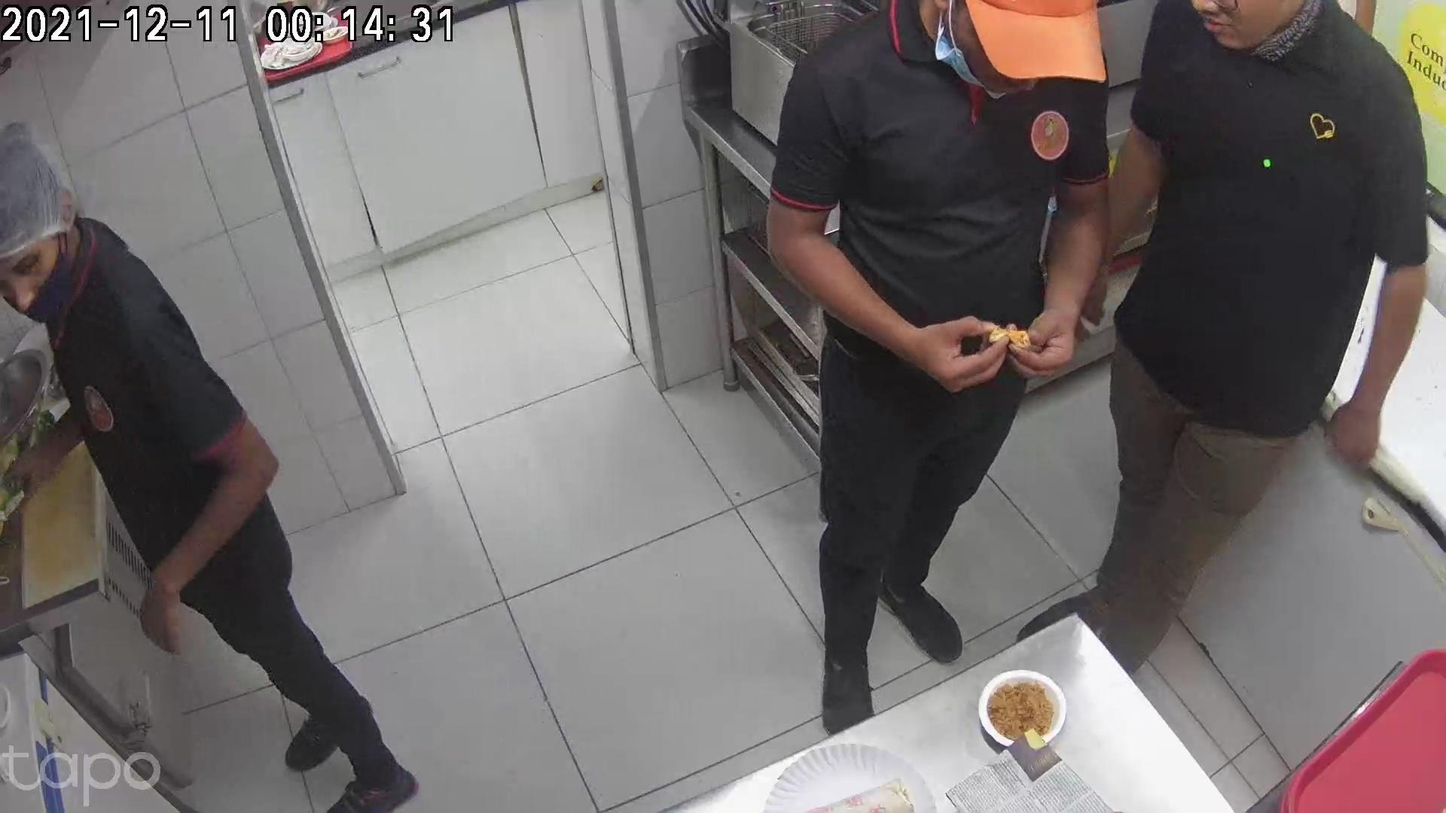no_gloves: (418, 371, 521, 466), (585, 319, 669, 420)
